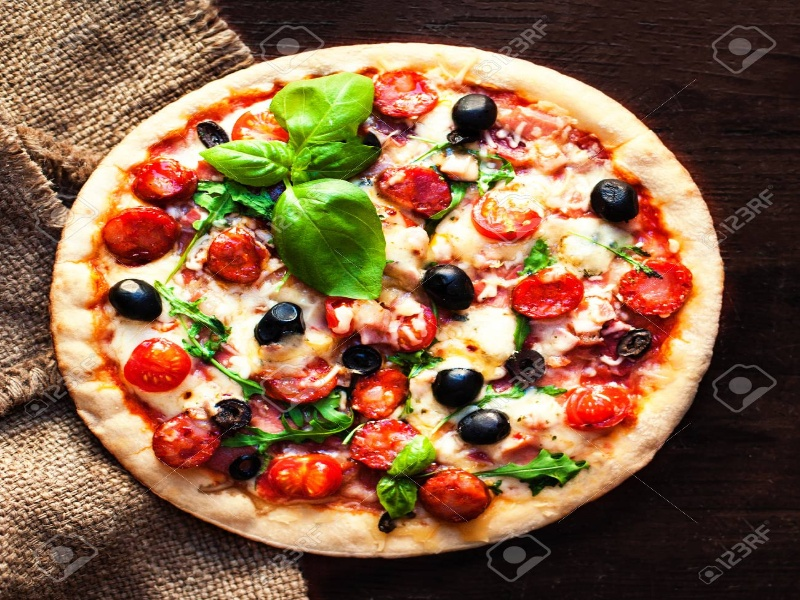olive noir: (416, 259, 475, 316), (102, 275, 167, 321), (433, 362, 485, 410), (252, 303, 310, 343), (590, 175, 637, 224), (447, 93, 497, 139), (454, 409, 512, 445)
pepperonis: (614, 254, 692, 320), (374, 160, 452, 217), (368, 66, 436, 122), (510, 273, 584, 323), (125, 158, 204, 200), (206, 234, 267, 286)
